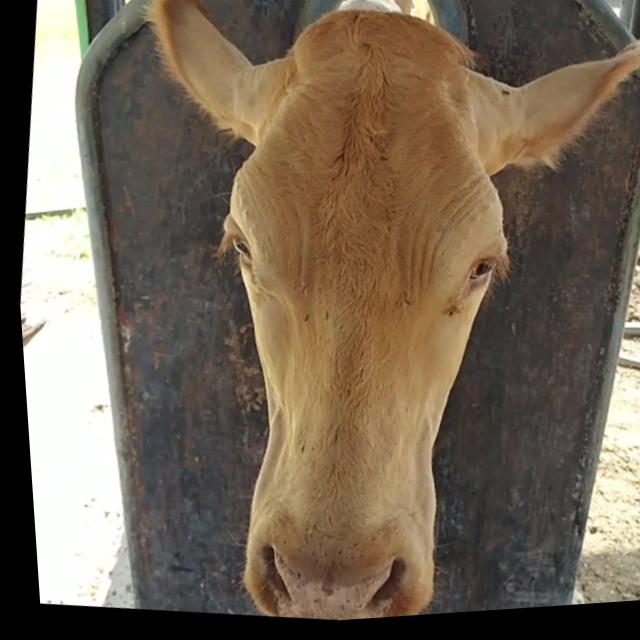cowFace: (158, 0, 550, 632)
